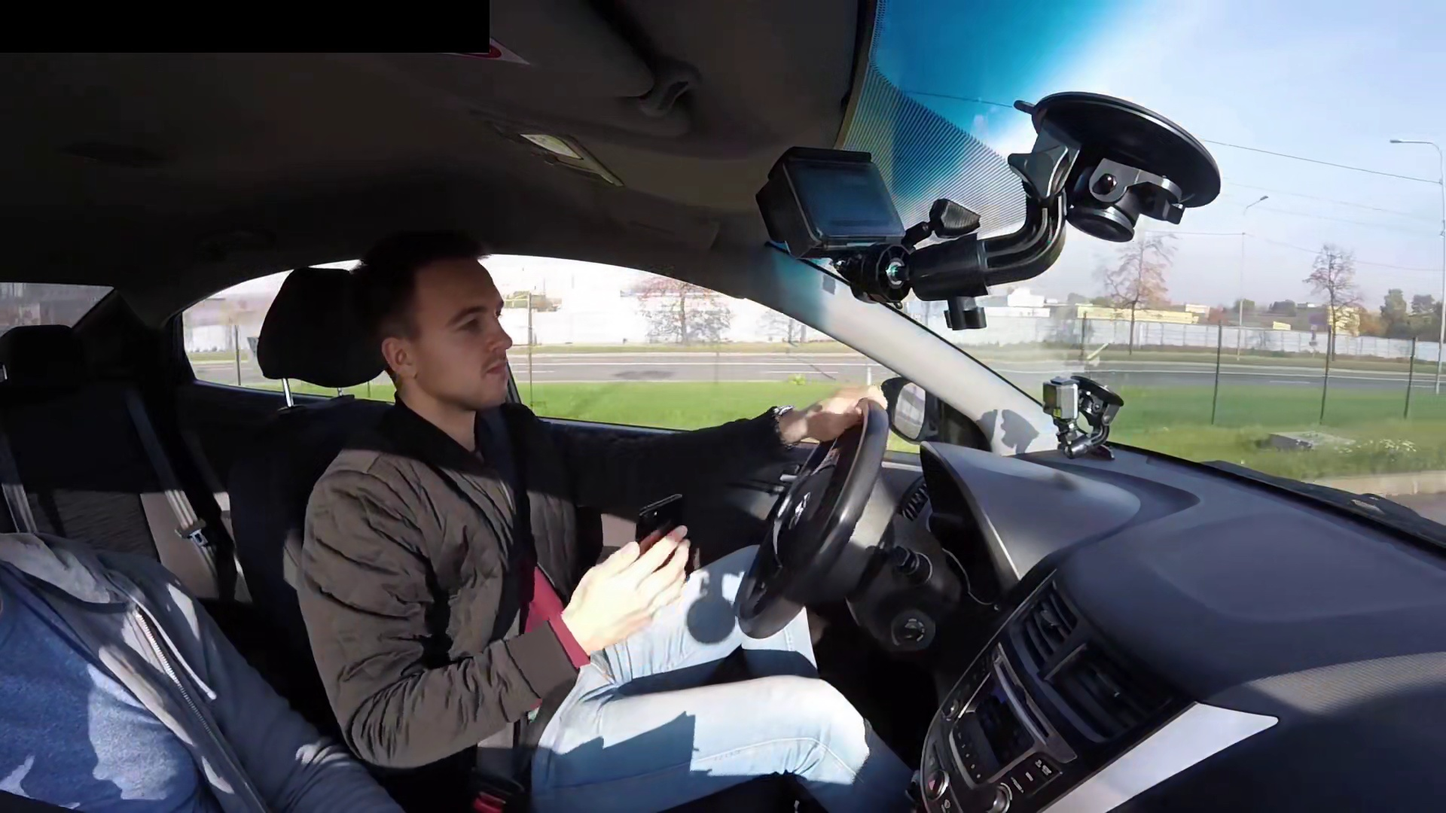bus: (0, 174, 950, 785), (152, 234, 941, 786)
